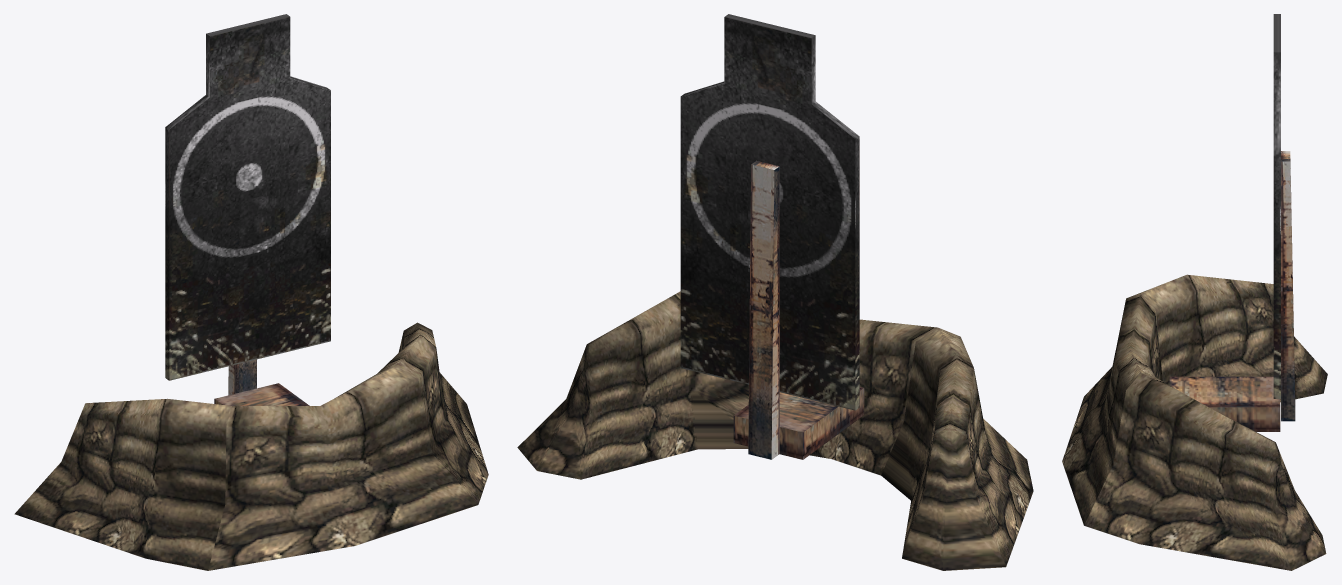
The model's file is Target01.glb.
The picture shows the model from 3 angles, left to right: view 1: azimuth 30°, elevation 25°; view 2: azimuth 150°, elevation 25°; view 3: azimuth 270°, elevation 25°; orthographic projection. The views are drawn at different scales.
Visible parts, largest first — view 1: _Target01; view 2: _Target01; view 3: _Target01.
Part boxes in pixels (box(x1,y1,x2,y2)): _Target01: box(14, 14, 488, 570); _Target01: box(517, 14, 1033, 570); _Target01: box(1062, 14, 1327, 570).
Bounding box in the file's own units: 2.65 × 2.46 × 1.38.
Materials: 1 (1 with a texture image).
